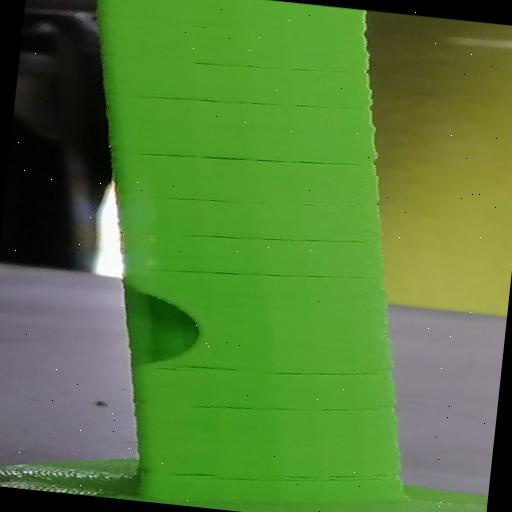cracks: (144, 330, 418, 412), (154, 448, 439, 510), (150, 248, 400, 304), (140, 136, 389, 182), (183, 218, 373, 262)
